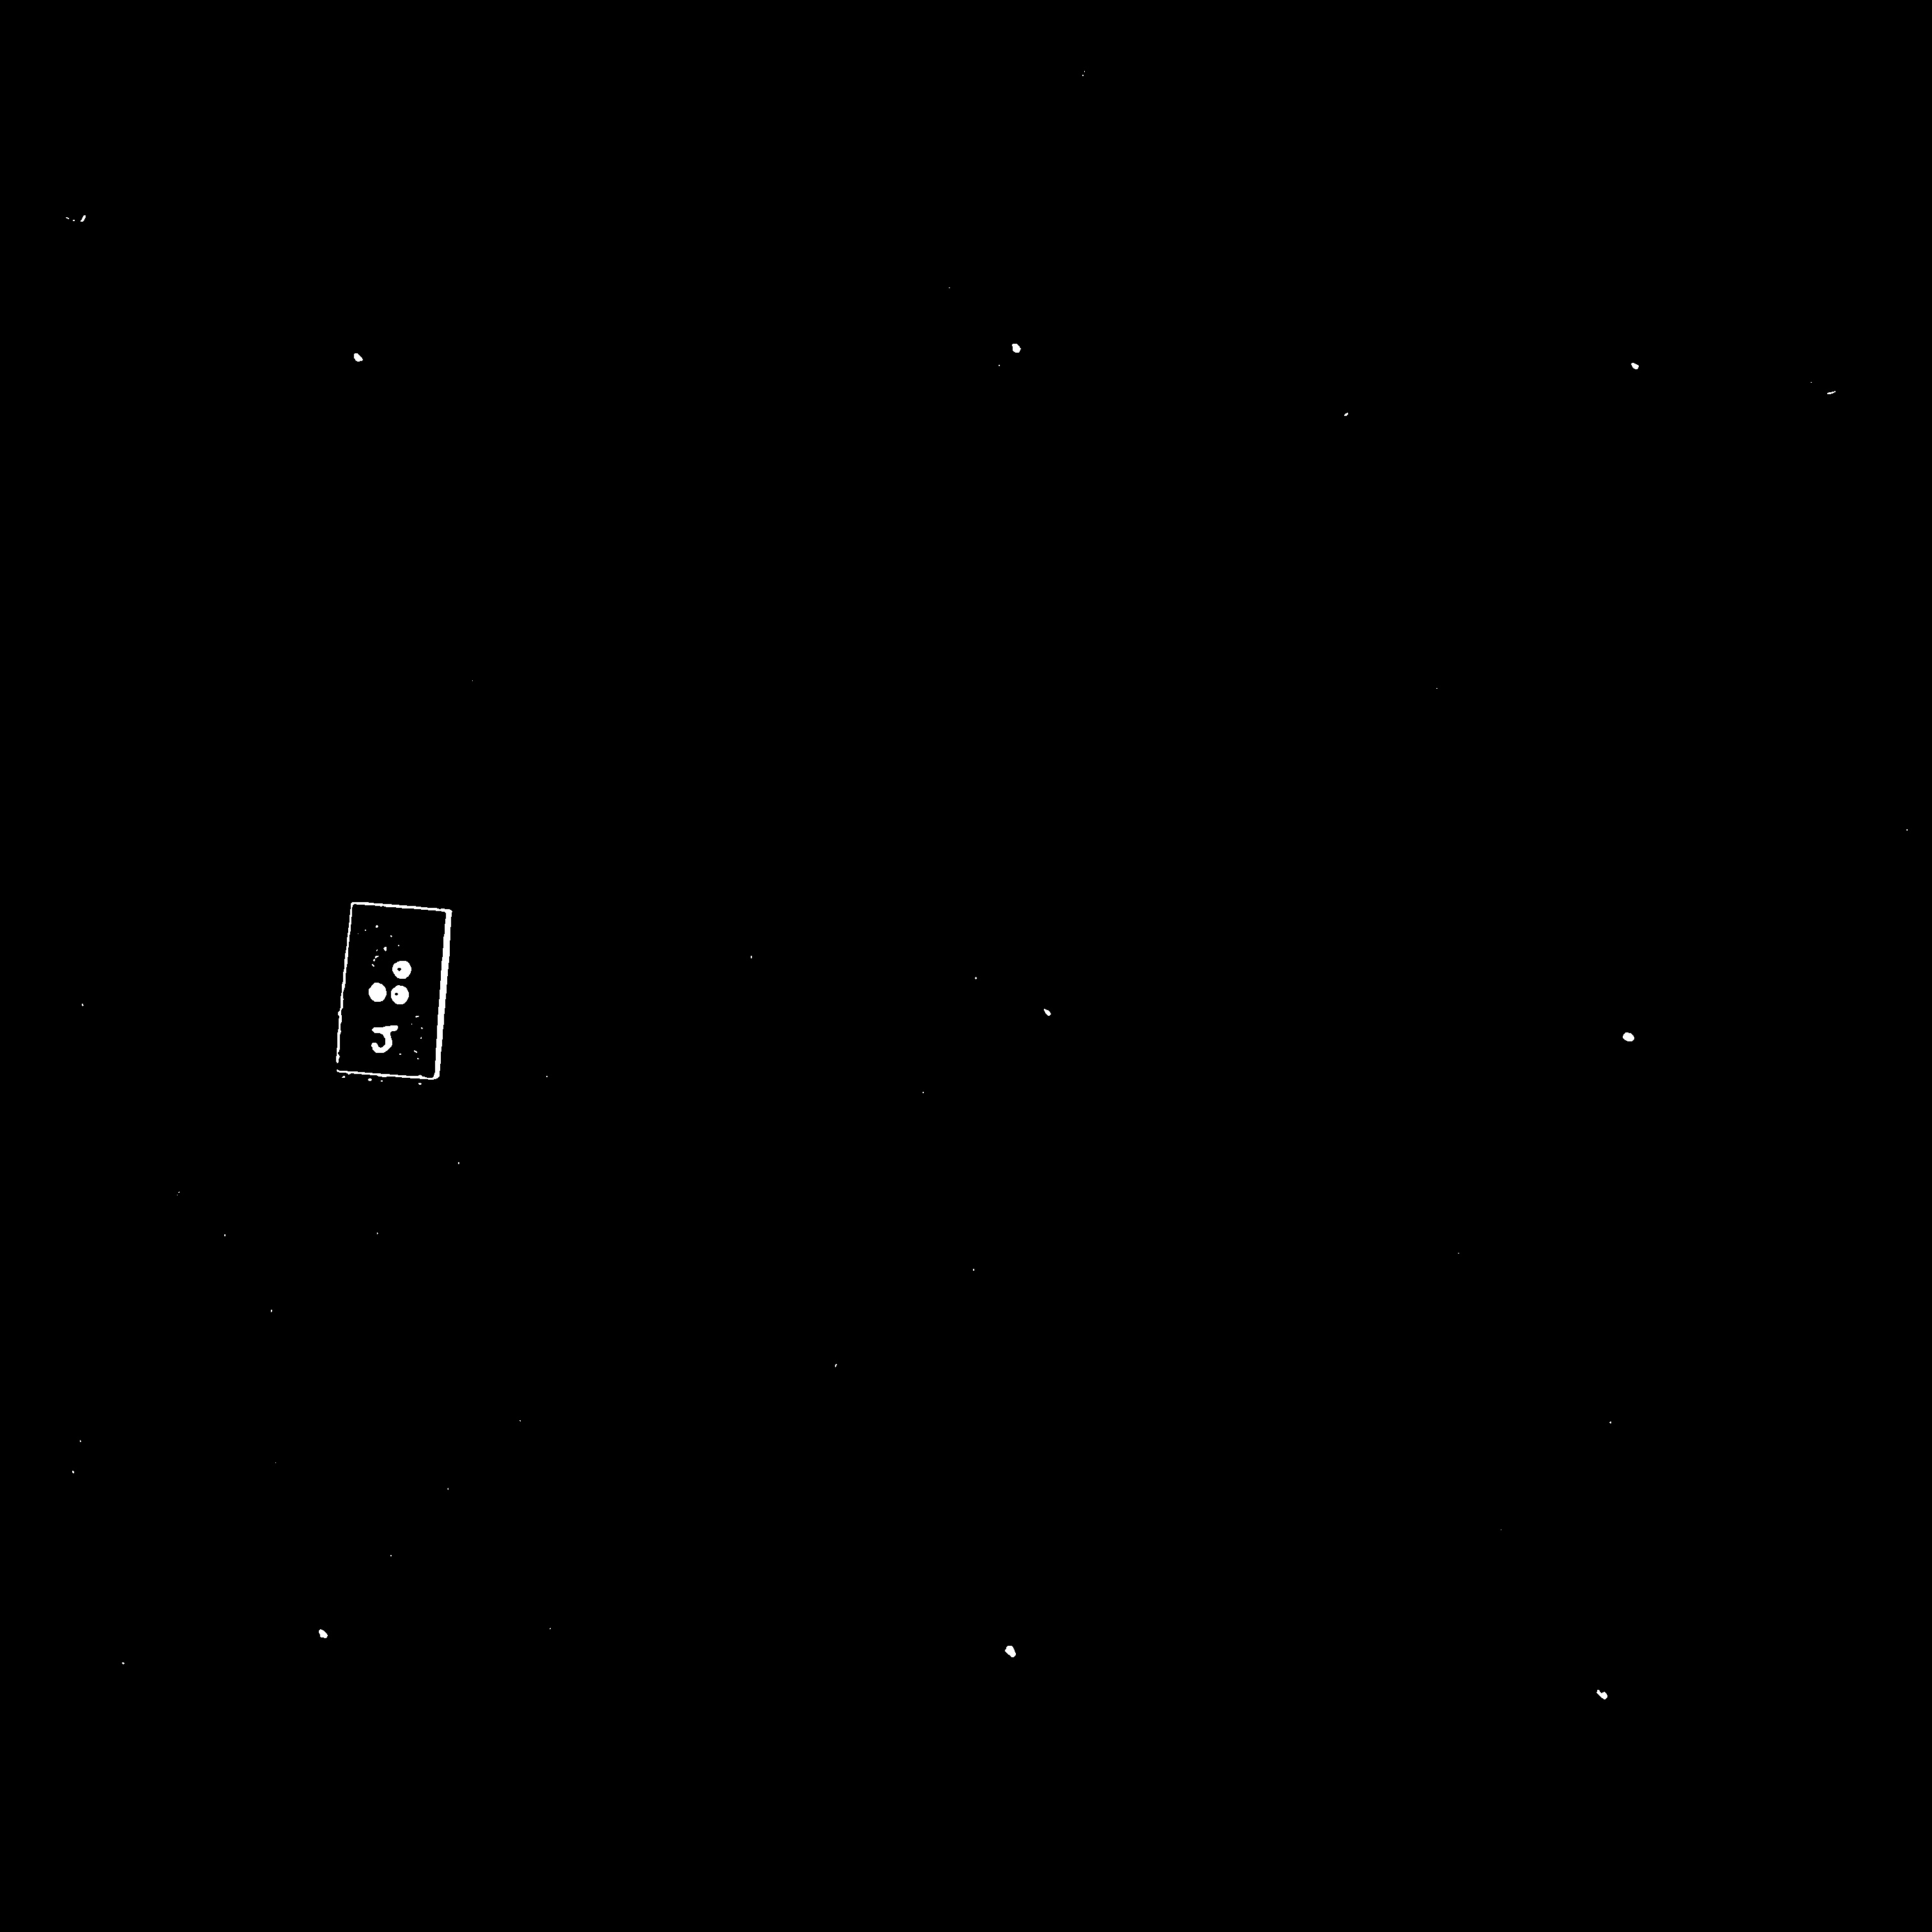j: (360, 949, 417, 1027)
